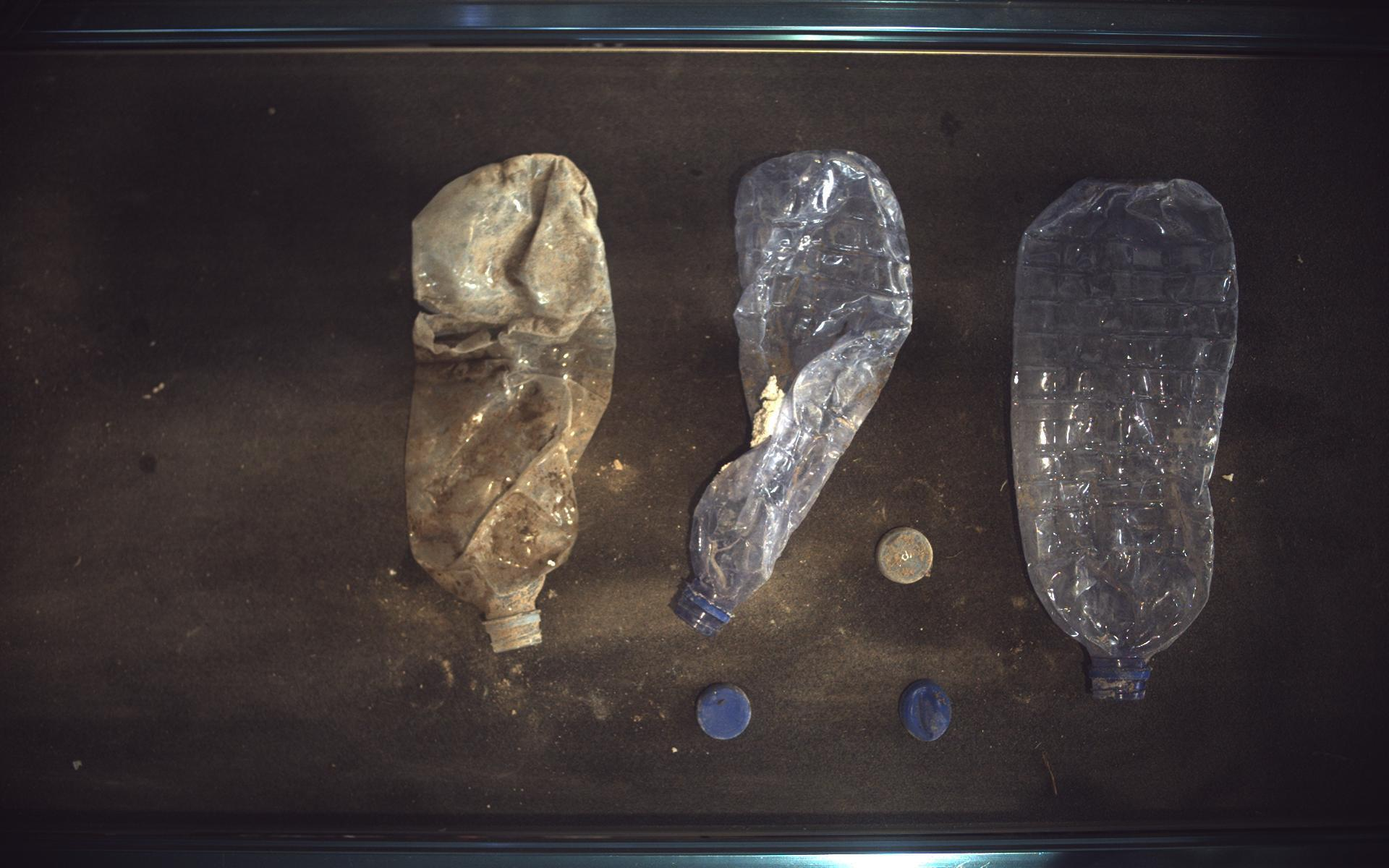general_w: (1014, 179, 1241, 702), (672, 150, 914, 638), (406, 153, 616, 653), (901, 680, 953, 743), (878, 528, 935, 584), (698, 684, 753, 741)
